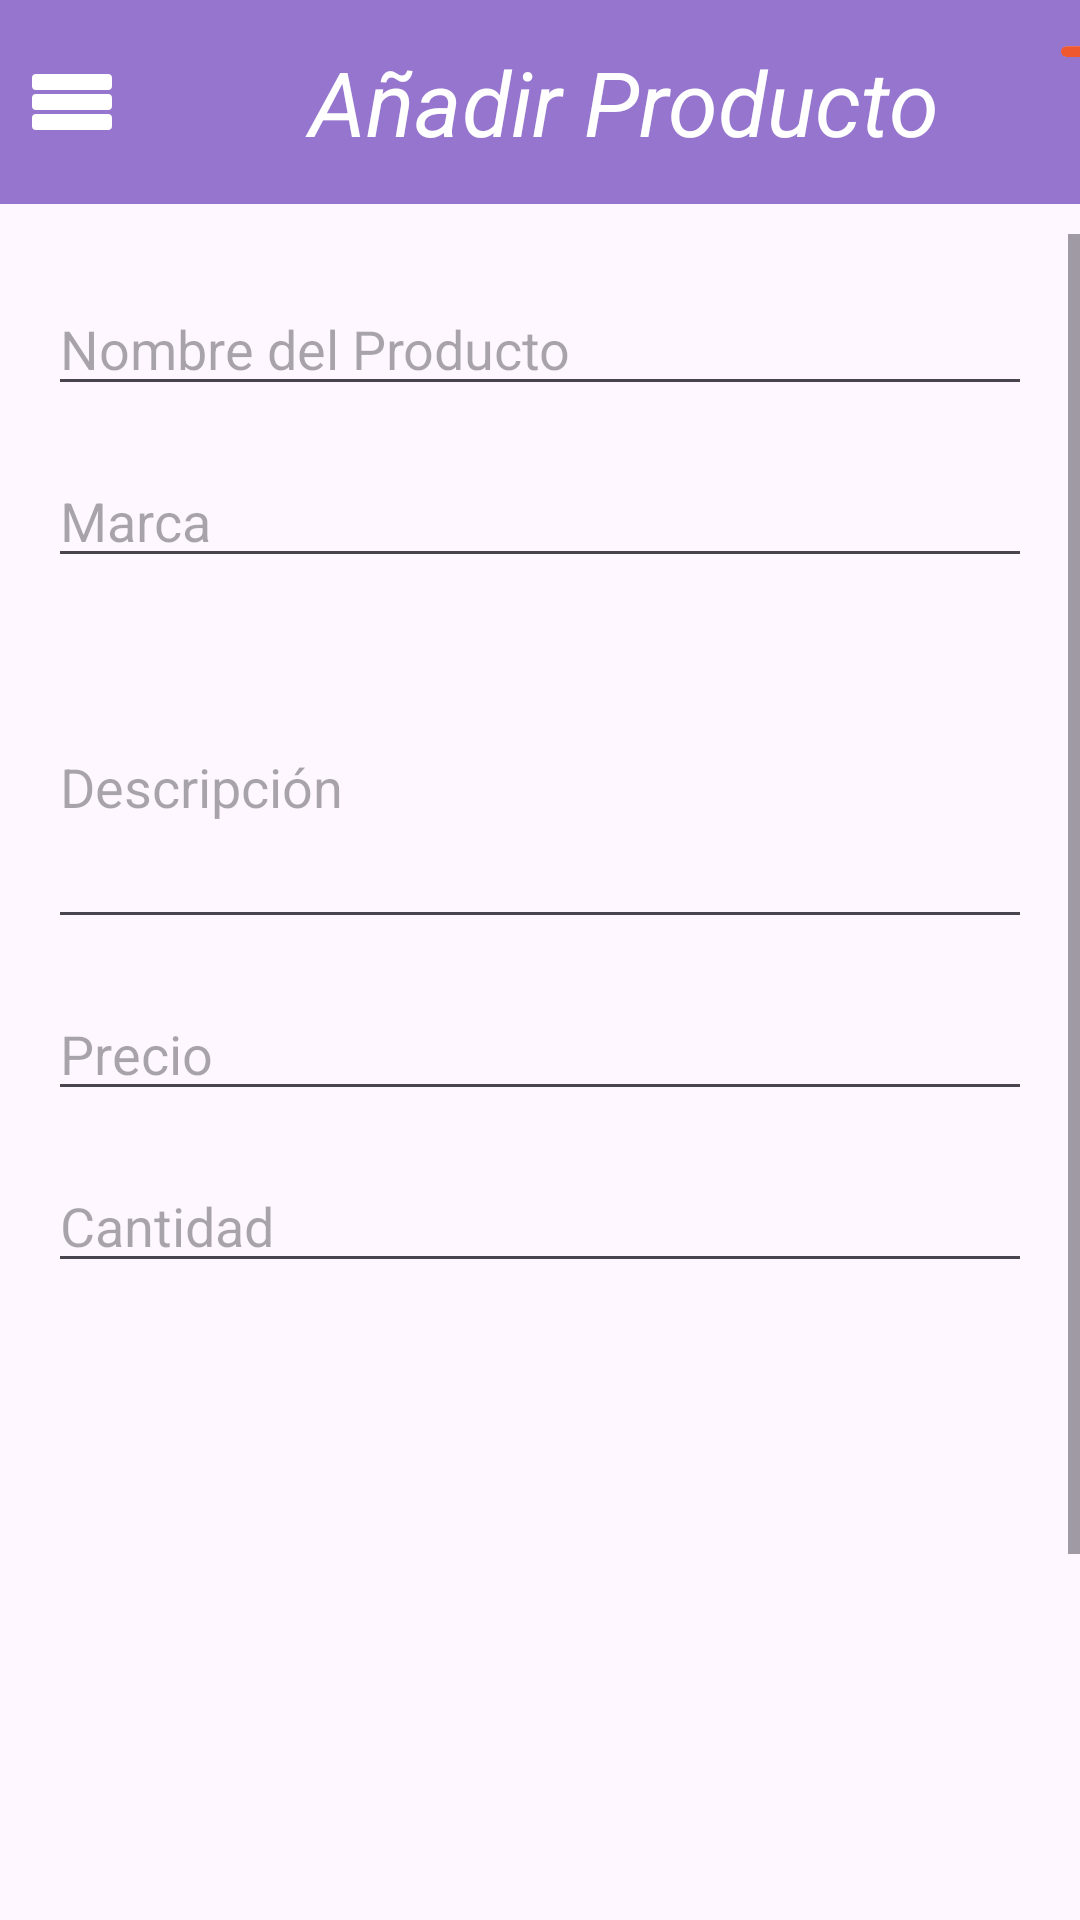

Where to tap for icons on this 1080×1920 app screen, as [x,y]:
menu: [72,102]
